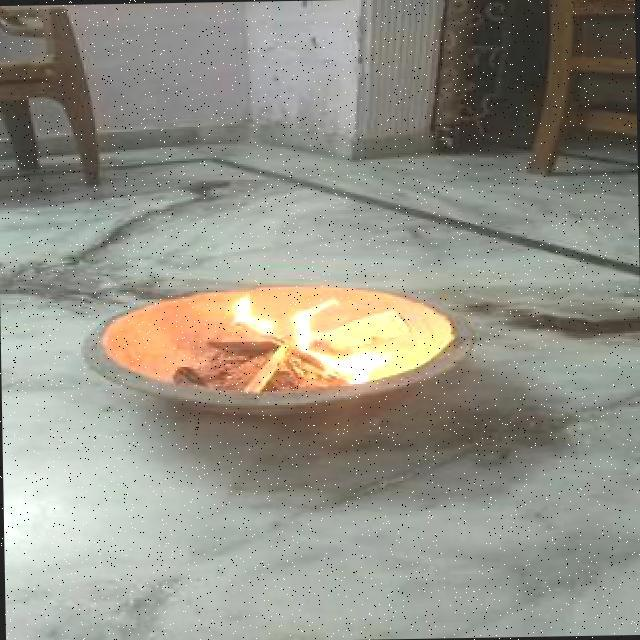Fire: (206, 282, 420, 400)
